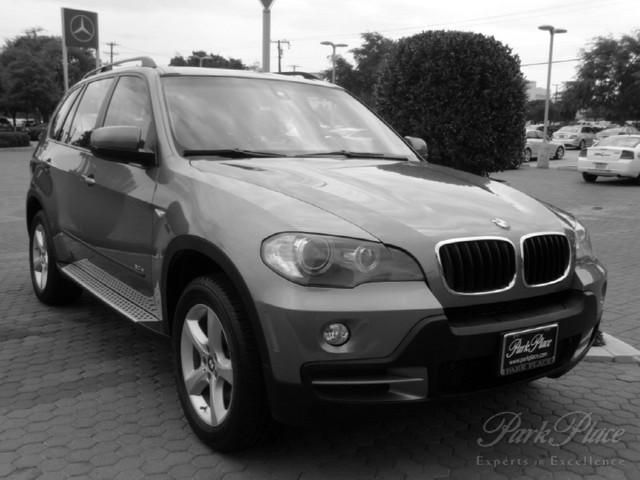car: (23, 50, 626, 461)
